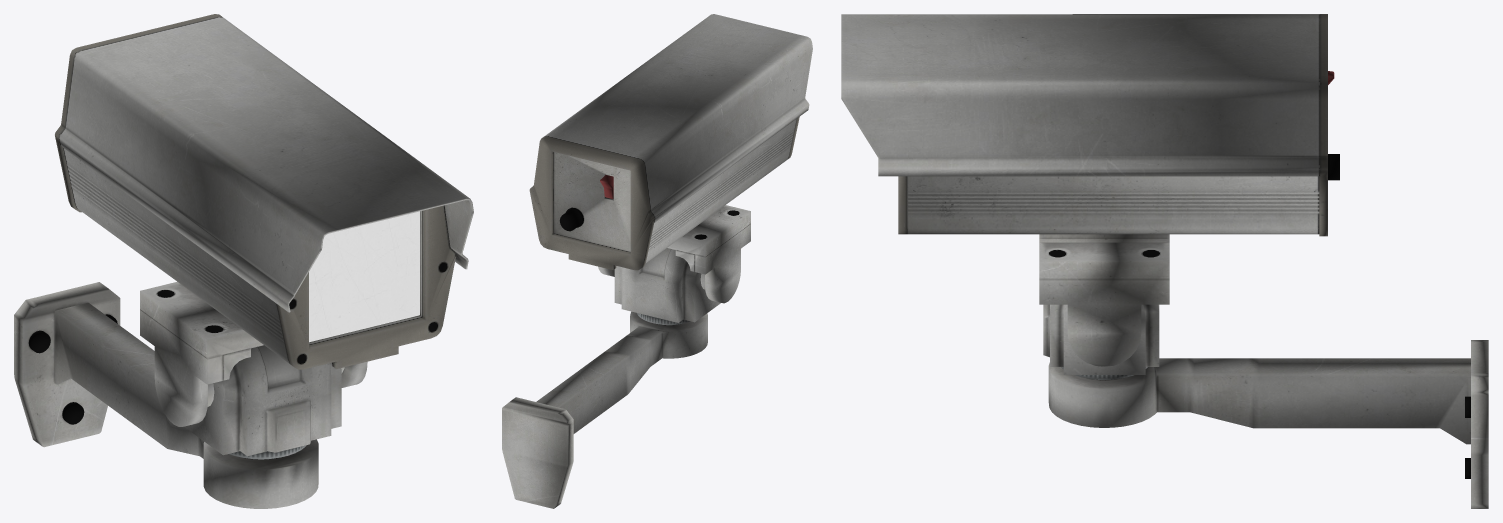
Rendered from CCTV.fbx.
3 views of the same model, side by side, from view 1: azimuth 30°, elevation 25°; view 2: azimuth 150°, elevation 25°; view 3: azimuth 270°, elevation 25° (orthographic). The views are drawn at different scales.
Parts seen in each view (by area): view 1: desirefx_me_003, desirefx_me_002, desirefx_me_005, desirefx_me_004; view 2: desirefx_me_003, desirefx_me_002, desirefx_me_005; view 3: desirefx_me_003, desirefx_me_002, desirefx_me_005.
Part boxes in pixels (left/top/right/bottom): desirefx_me_003: left=55, top=14, right=473, bottom=426; desirefx_me_002: left=14, top=282, right=318, bottom=508; desirefx_me_005: left=184, top=345, right=341, bottom=456; desirefx_me_004: left=309, top=211, right=419, bottom=342; desirefx_me_003: left=529, top=14, right=812, bottom=303; desirefx_me_002: left=502, top=311, right=707, bottom=508; desirefx_me_005: left=614, top=248, right=720, bottom=322; desirefx_me_003: left=841, top=14, right=1339, bottom=366; desirefx_me_002: left=1048, top=340, right=1488, bottom=508; desirefx_me_005: left=1043, top=304, right=1159, bottom=374.
Size of the model in its own units: 3133 by 7648 by 10000.
Materials: 2 (2 with a texture image).
